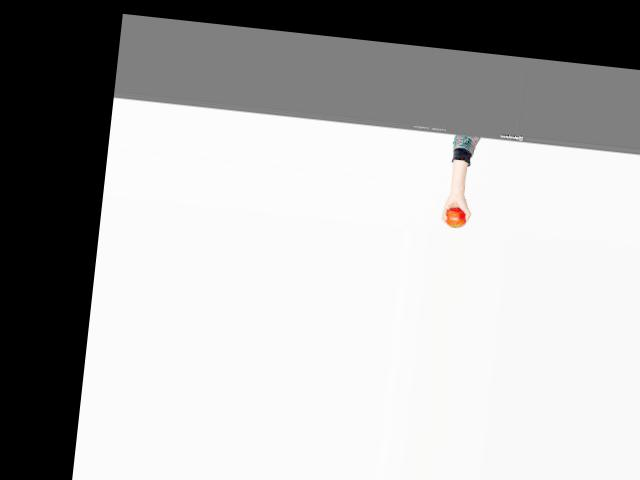tomato: (444, 206, 467, 229)
